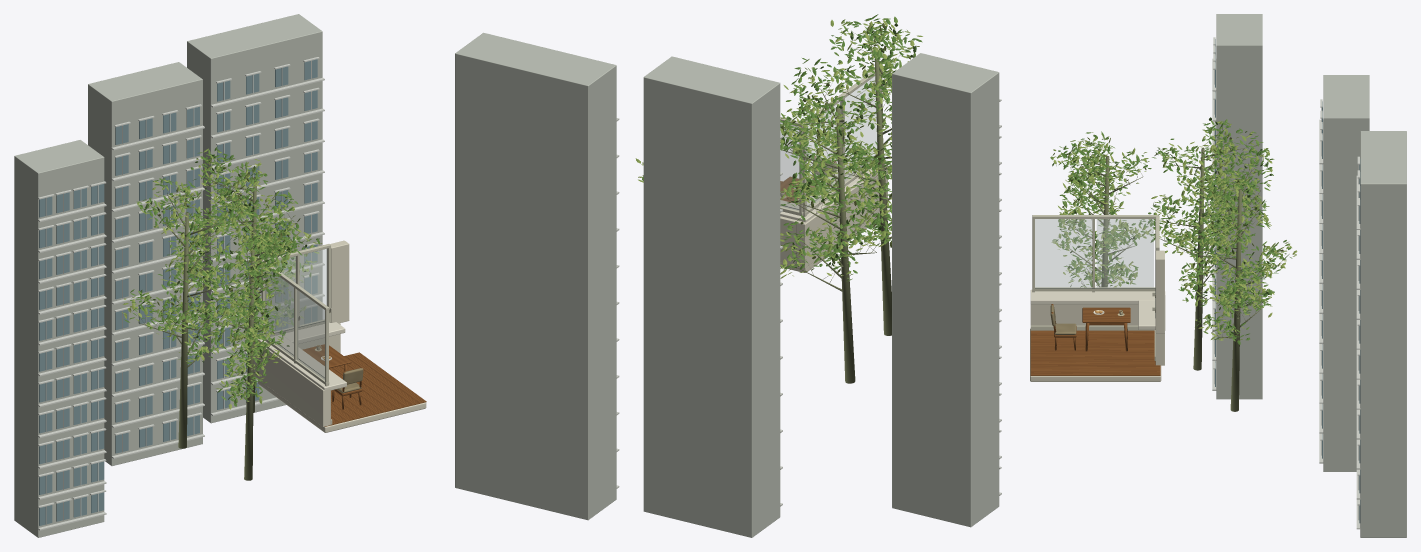
Rendered from breakfast-corner.glb.
3 views of the same model, side by side, from view 1: azimuth 30°, elevation 25°; view 2: azimuth 150°, elevation 25°; view 3: azimuth 270°, elevation 25° (orthographic). The views are drawn at different scales.
Visible parts, largest first — view 1: Residential apartment block, Residential apartment block.001, Residential apartment block.002, Tree leaves • group 1, Tree leaves • group 2, Tree leaves • group 3, Tree leaves • group 4, Tree leaves • group 0, Left wall beneath window, GLASS left pane, GLASS return pane.001, GLASS left pane.001 (+10 smaller); view 2: Residential apartment block.001, Residential apartment block, Residential apartment block.002, Tree leaves • group 0, Tree leaves • group 4, Tree leaves • group 2, Tree leaves • group 3, Tree leaves • group 1, Left wall beneath window, Tree trunk.001, Tree trunk, GLASS left pane (+3 smaller); view 3: Residential apartment block.001, Residential apartment block, Residential apartment block.002, Tree leaves • group 2, Tree leaves • group 1, Tree leaves • group 4, Tree leaves • group 0, Tree leaves • group 3, GLASS left pane, GLASS left pane.001, L sill • long side, Left wall beneath window (+21 smaller).
Part boxes in pixels (x1,y1,x2,y2): Residential apartment block: (88,62,202,465); Residential apartment block.001: (187,14,322,423); Residential apartment block.002: (14,140,104,537); Tree leaves • group 1: (129,149,318,403); Tree leaves • group 2: (121,148,322,403); Tree leaves • group 3: (130,154,319,406); Tree leaves • group 4: (124,157,317,409); Tree leaves • group 0: (124,147,319,401); Left wall beneath window: (253,346,330,426); GLASS left pane: (297,290,324,379); GLASS return pane.001: (300,249,326,325); GLASS left pane.001: (265,271,293,357); Residential apartment block.001: (455,32,616,520); Residential apartment block: (643,56,780,537); Residential apartment block.002: (892,53,999,527); Tree leaves • group 0: (780,14,922,274); Tree leaves • group 4: (638,19,919,278); Tree leaves • group 2: (635,19,922,275); Tree leaves • group 3: (642,19,915,273); Tree leaves • group 1: (780,16,915,281); Left wall beneath window: (796,164,887,267); Tree trunk.001: (836,106,855,383); Tree trunk: (874,59,891,335); GLASS left pane: (845,76,877,181); Residential apartment block.001: (1360,131,1406,537); Residential apartment block: (1323,75,1369,471); Residential apartment block.002: (1216,14,1262,399); Tree leaves • group 2: (1051,121,1296,341); Tree leaves • group 1: (1050,119,1289,341); Tree leaves • group 4: (1053,121,1297,340); Tree leaves • group 0: (1052,117,1289,344); Tree leaves • group 3: (1056,121,1292,339); GLASS left pane: (1035,219,1091,287); GLASS left pane.001: (1097,219,1153,287); L sill • long side: (1030,289,1155,304); Left wall beneath window: (1030,291,1165,330).
Bounding box in the file's own units: 8.65 × 8.4 × 8.1.
22 materials, 4 textured.
